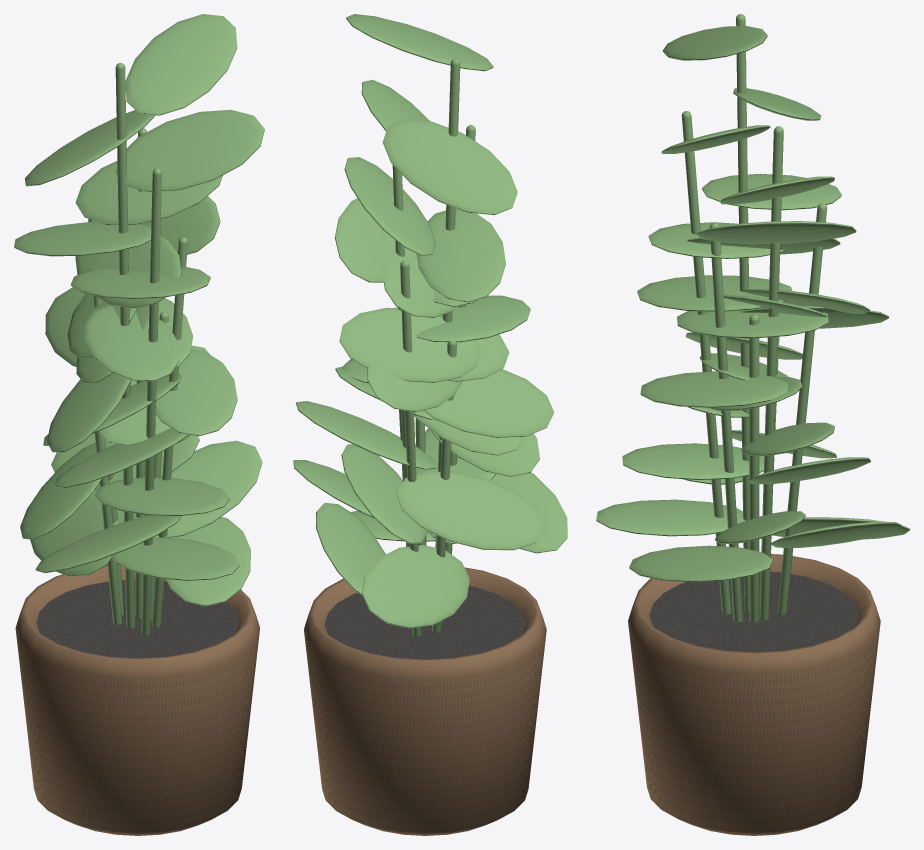
File: pets-and-companions-hd-houseplant-8701e1f8__28183.glb
3 views of the same model, side by side, from view 1: azimuth 30°, elevation 25°; view 2: azimuth 150°, elevation 25°; view 3: azimuth 270°, elevation 25° (orthographic). The views are drawn at different scales.
Visible parts, largest first — view 1: houseplant; view 2: houseplant; view 3: houseplant.
Boxes of the visible parts, left/top/right/bottom form: houseplant: left=14, top=14, right=264, bottom=835; houseplant: left=293, top=14, right=567, bottom=835; houseplant: left=596, top=14, right=909, bottom=835.
Bounding box in the file's own units: 0.46 × 1.38 × 0.4965.
3 materials, 2 textured.
